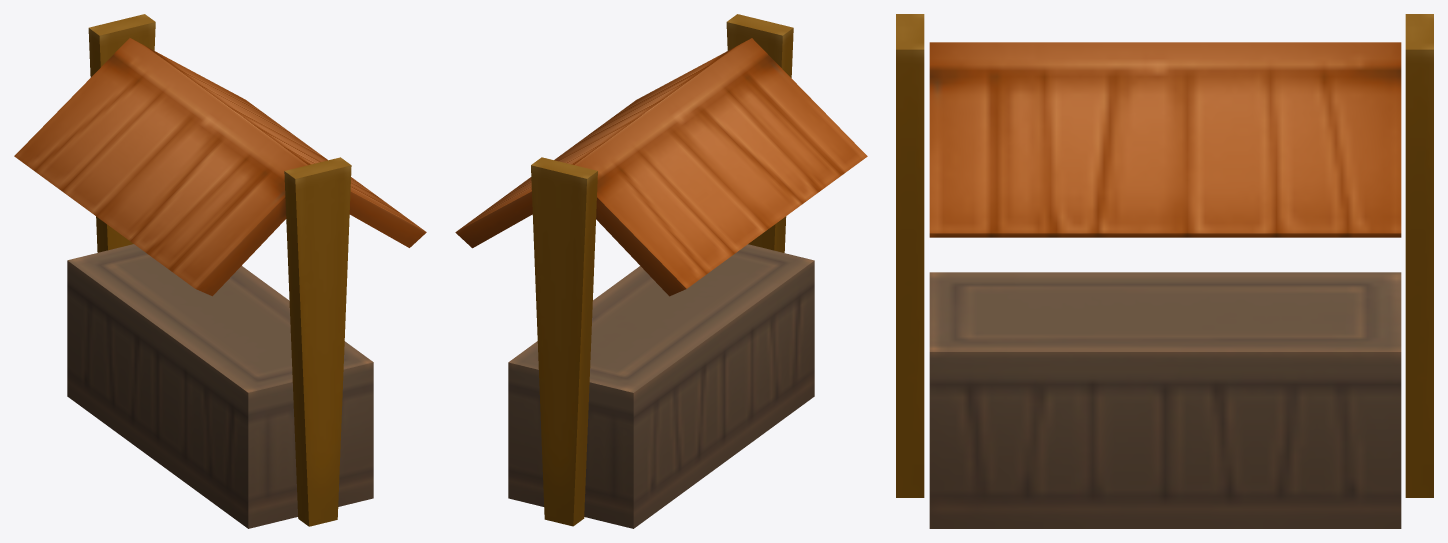
File: zhucheng01_TanWei.FBX
3 renders of one model, left to right at view 1: azimuth 30°, elevation 25°; view 2: azimuth 150°, elevation 25°; view 3: azimuth 270°, elevation 25°, orthographic. The views are drawn at different scales.
Visible parts, largest first — view 1: Object81; view 2: Object81; view 3: Object81.
Boxes of the visible parts, <box> form: Object81: <box>14,14,426,528</box>; Object81: <box>455,14,867,528</box>; Object81: <box>896,14,1433,528</box>.
Size of the model in its own units: 2.09 by 3.03 by 3.23.
